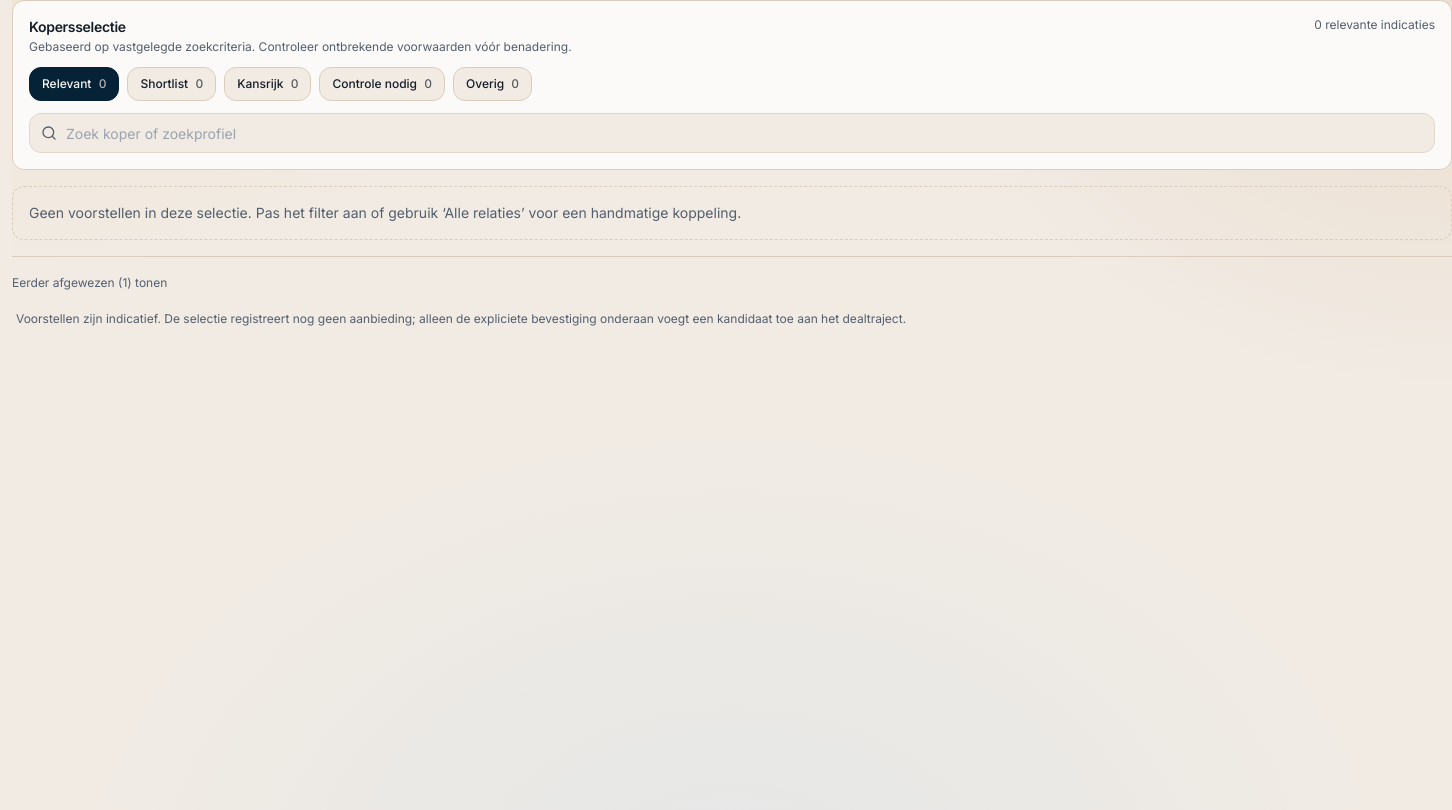
it: Match-UI: professionele shortlist met controlepunten › onthoudt afwijzingen en biedt ze alleen apart herstelbaar aan
Later steps or results of the test are not shown.
What coordinates should you click on to do the following:
click the button "Eerder afgewezen (1) tonen"
I would click on:
 (90, 283)
Its box is [12,275,167,291].
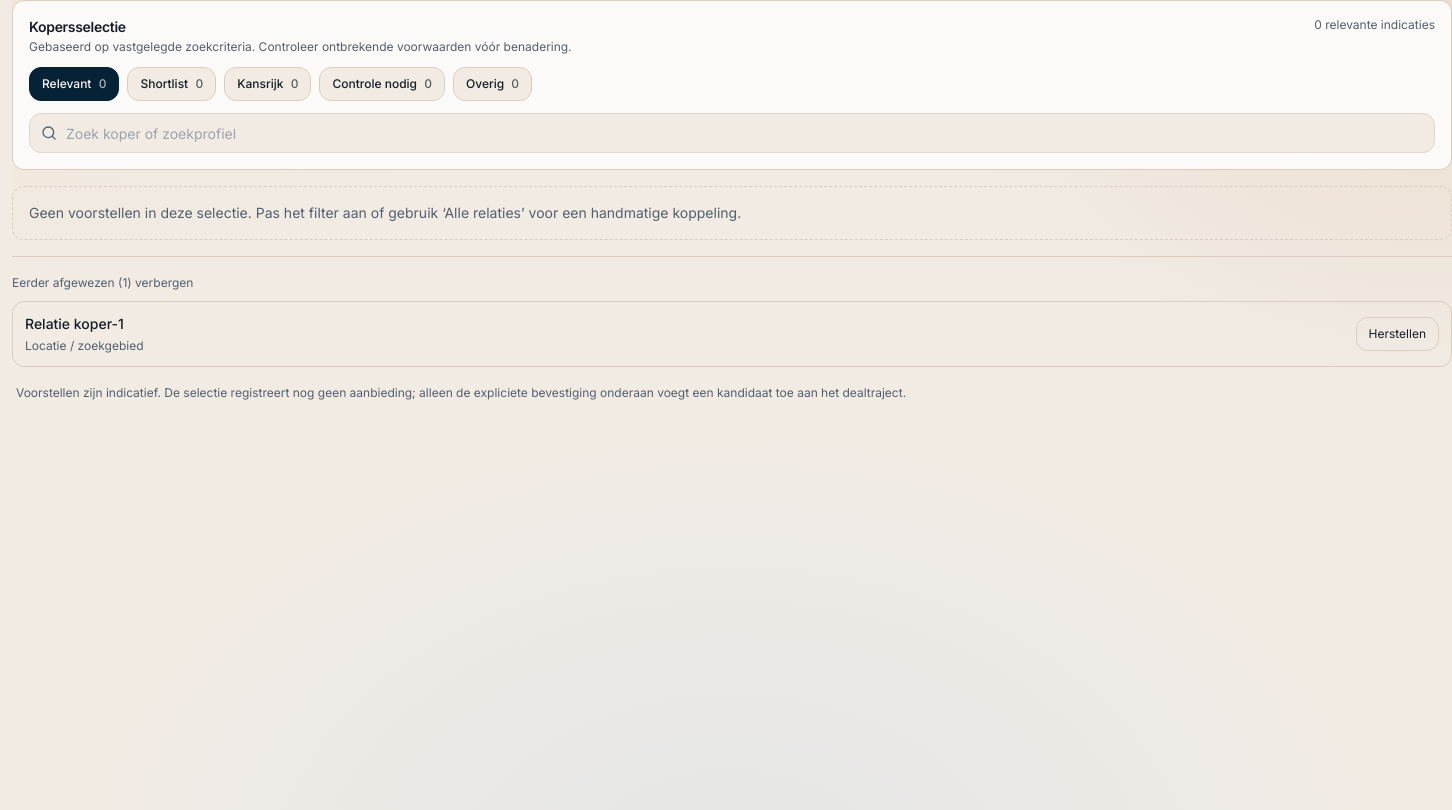
Now the text "Relatie koper-1" is shown, box [25,315,124,332]
